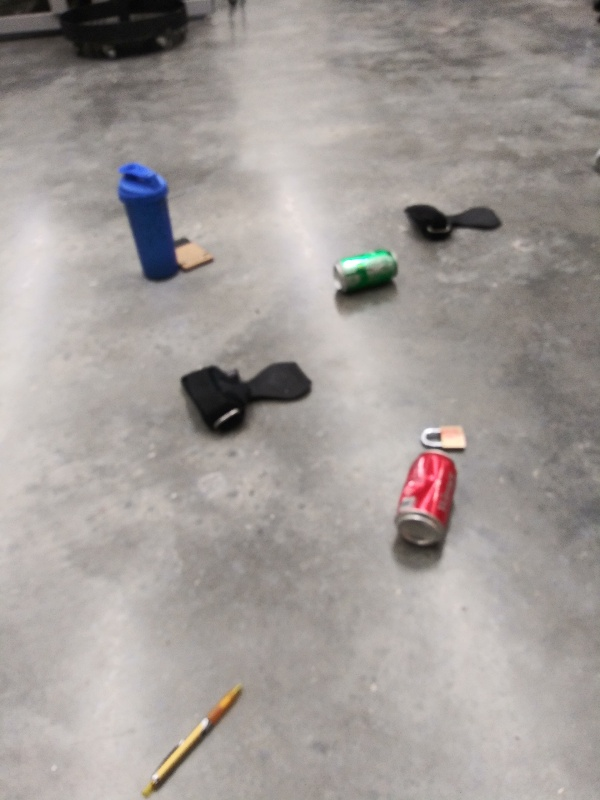can: (384, 447, 463, 552), (330, 248, 402, 299)
